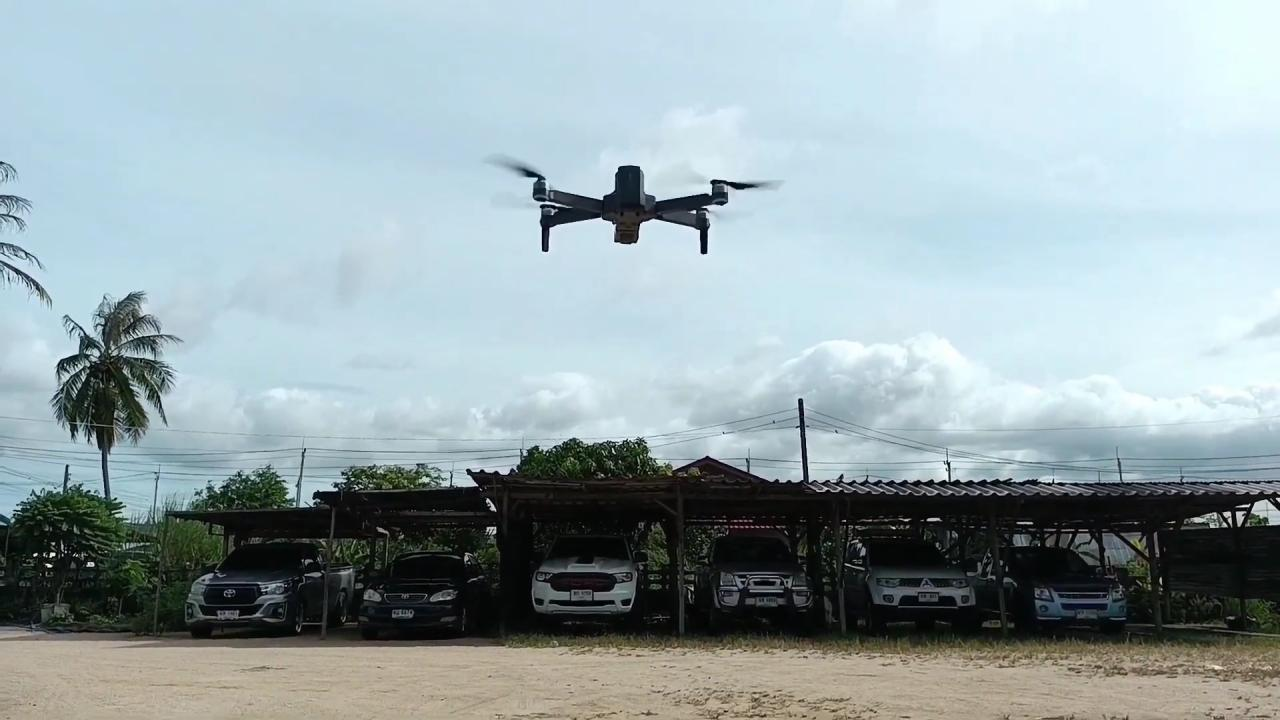Drone: (466, 135, 794, 270)
